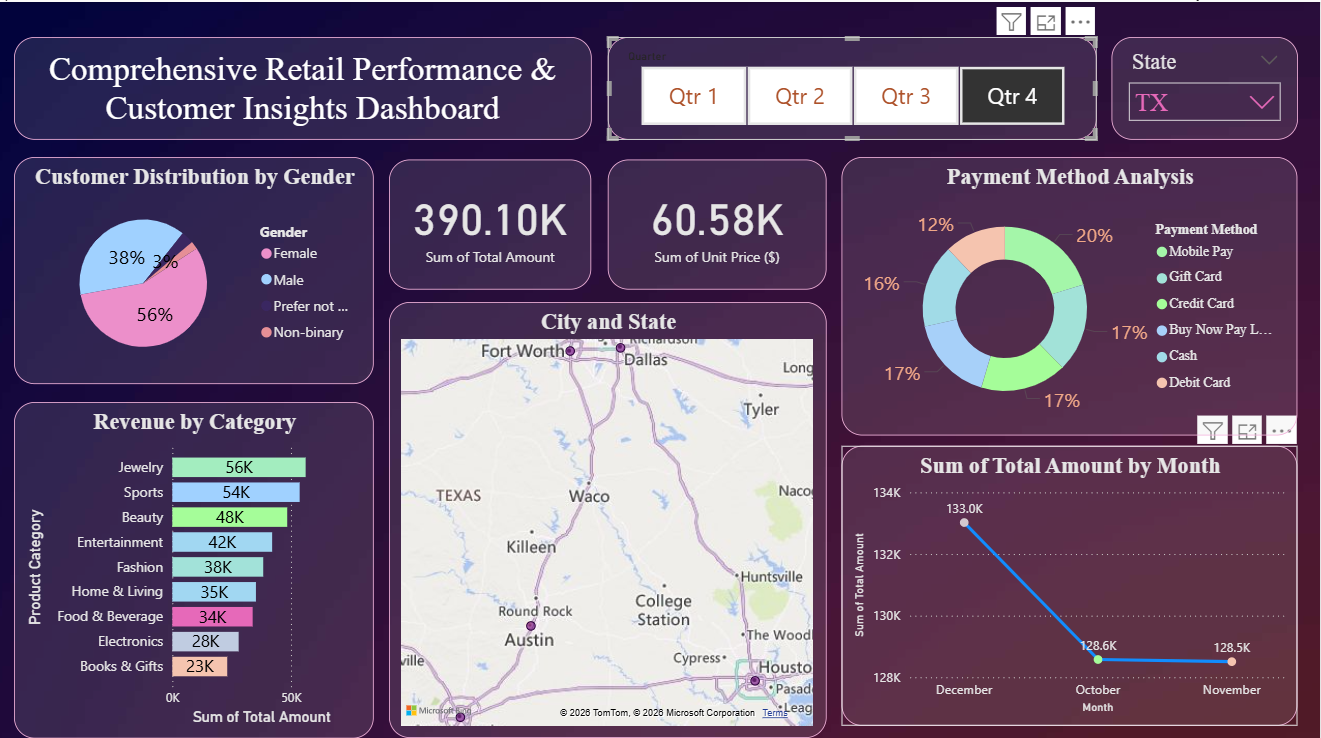

The page's visual inventory and layout, read from the dashboard file:
{"tool":"powerbi","page":{"name":"Page 1","canvas":[1280,720],"ordinal":0},"visuals":[{"type":"barChart","title":"Revenue by Category","fields":{"Category":["Mall_Data_3000_Entries-123.Product Category"],"Y":["Sum(Mall_Data_3000_Entries-123.Total Amount)"]},"box":[19.3,386.1,347.5,324.5],"z":0},{"type":"pieChart","title":"Customer Distribution by Gender","fields":{"Category":["Mall_Data_3000_Entries-123.Gender"],"Y":["CountNonNull(Mall_Data_3000_Entries-123.Customer ID)"]},"box":[19.3,149.6,347.5,219.6],"z":1000},{"type":"lineChart","fields":{"Y":["Sum(Mall_Data_3000_Entries-123.Total Amount)"],"Category":["Mall_Data_3000_Entries-123.Month"]},"box":[818,428.3,440.4,270.2],"z":2000},{"type":"donutChart","title":"Payment Method Analysis","fields":{"Category":["Mall_Data_3000_Entries-123.Payment Method"],"Y":["Sum(Mall_Data_3000_Entries-123.Total Amount)"]},"box":[818,149.6,440.4,269],"z":3000},{"type":"map","fields":{"Category":["Mall_Data_3000_Entries-123.City"],"Series":["Mall_Data_3000_Entries-123.State"]},"box":[381.2,289.5,422.3,421],"z":4000},{"type":"card","fields":{"Values":["Sum(Mall_Data_3000_Entries-123.Total Amount)"]},"box":[381.2,152,195.4,125.5],"z":5000},{"type":"card","fields":{"Values":["Sum(Mall_Data_3000_Entries-123.Unit Price ($))"]},"box":[592.4,152,211.1,125.5],"z":6000},{"type":"slicer","fields":{"Values":["Mall_Data_3000_Entries-123.Order Date.Variation.Date Hierarchy.Quarter"]},"box":[592.4,33.8,471.7,98.9],"z":7000},{"type":"slicer","fields":{"Values":["Mall_Data_3000_Entries-123.State"]},"box":[1078.6,33.8,179.8,98.9],"z":8000},{"type":"textbox","box":[19.3,33.8,557.4,98.9],"z":9000}]}

Visuals, with their boxes in screenshot pixels (x1, y1, x2, y2), scaled from the page's 1280x720 canvas onto the 1321x738 screenshot:
"Revenue by Category" barChart: 20 396 379 728
"Customer Distribution by Gender" pieChart: 20 153 379 378
lineChart - Sum(Mall_Data_3000_Entries-123.Total Amount) x Mall_Data_3000_Entries-123.Month: 844 439 1299 716
"Payment Method Analysis" donutChart: 844 153 1299 429
map - Mall_Data_3000_Entries-123.City x Mall_Data_3000_Entries-123.State: 393 297 829 728
card - Sum(Mall_Data_3000_Entries-123.Total Amount): 393 156 595 284
card - Sum(Mall_Data_3000_Entries-123.Unit Price ($)): 611 156 829 284
slicer - Mall_Data_3000_Entries-123.Order Date.Variation.Date Hierarchy.Quarter: 611 35 1098 136
slicer - Mall_Data_3000_Entries-123.State: 1113 35 1299 136
textbox: 20 35 595 136
